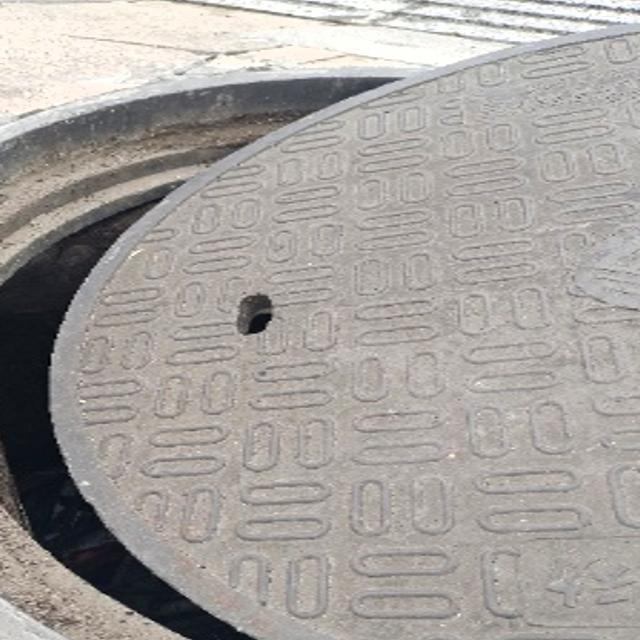uncovered: (0, 10, 640, 640)
